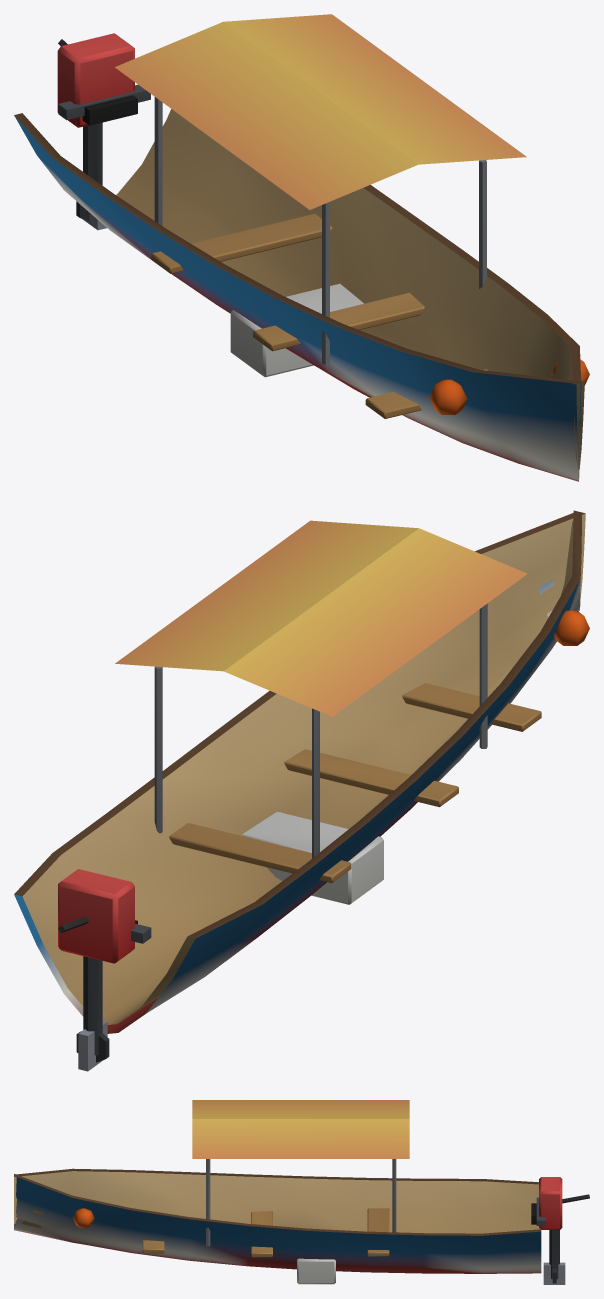
Rendered from bote_pesca.glb.
The picture shows the model from 3 angles, top to bottom: view 1: azimuth 30°, elevation 25°; view 2: azimuth 150°, elevation 25°; view 3: azimuth 270°, elevation 25°; orthographic projection. The views are drawn at different scales.
Parts seen in each view (by area): view 1: bote_pesca; view 2: bote_pesca; view 3: bote_pesca.
Part boxes in pixels (x1,y1,x2,y2): bote_pesca: [14, 14, 589, 481]; bote_pesca: [14, 510, 589, 1071]; bote_pesca: [14, 1100, 589, 1284].
Size of the model in its own units: 1.8 by 2.34 by 7.43.
